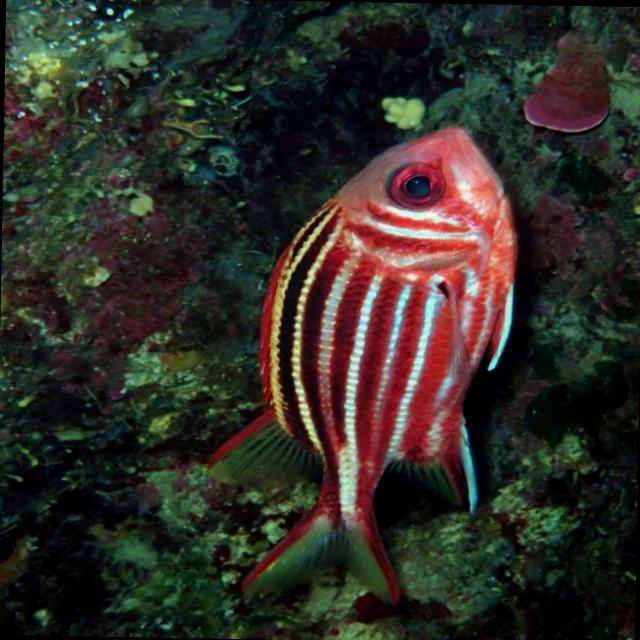Asker Baligi: (180, 92, 548, 628)
